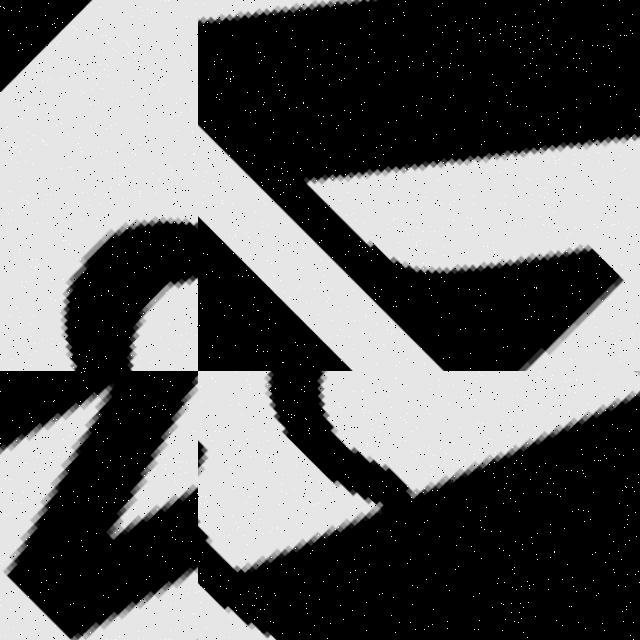6: (198, 371, 640, 640)
8: (0, 0, 198, 371)
W: (0, 371, 198, 640)
Z: (198, 0, 640, 371)
